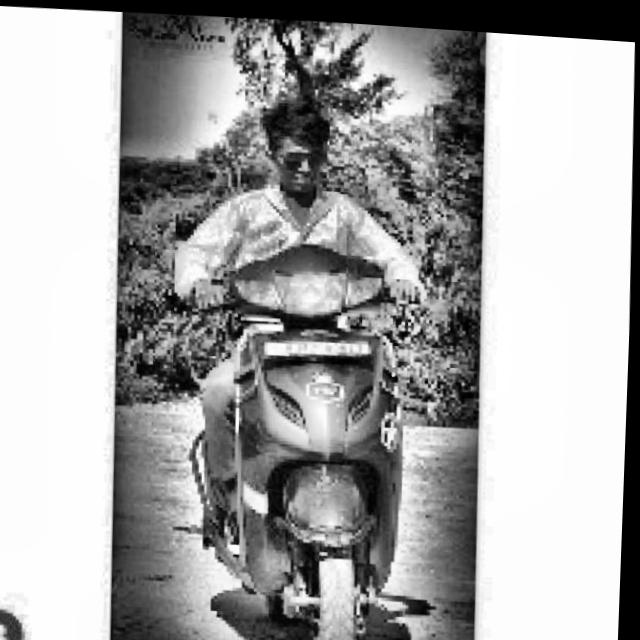motorcycle: (161, 224, 446, 640)
